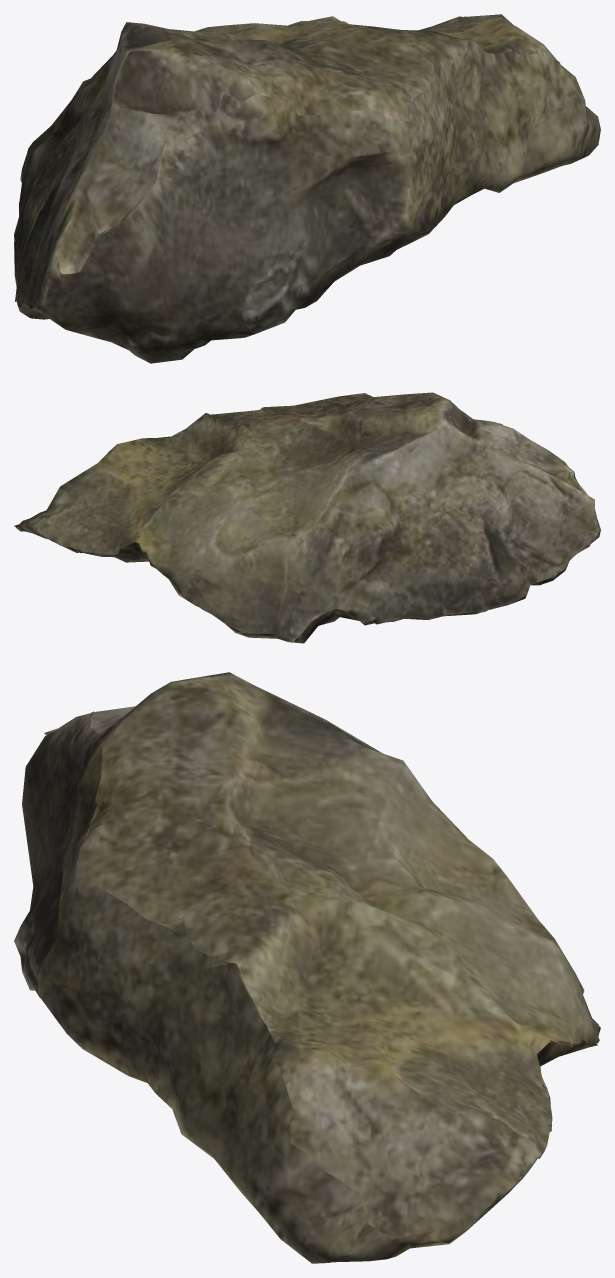
Rendered from pr_moss_b_05.fbx.
The picture shows the model from 3 angles, top to bottom: view 1: azimuth 30°, elevation 25°; view 2: azimuth 150°, elevation 25°; view 3: azimuth 270°, elevation 25°; orthographic projection. The views are drawn at different scales.
Visible parts, largest first — view 1: pr_moss_b_05_LOD0; view 2: pr_moss_b_05_LOD0; view 3: pr_moss_b_05_LOD0.
Boxes of the visible parts, box(x1,y1,x2,y2) form: pr_moss_b_05_LOD0: box(14, 14, 600, 363); pr_moss_b_05_LOD0: box(14, 392, 600, 643); pr_moss_b_05_LOD0: box(14, 672, 600, 1263).
Size of what is drawn, in the model's own units: 1.63 by 0.6078 by 1.02.
Materials: 1 (1 with a texture image).
